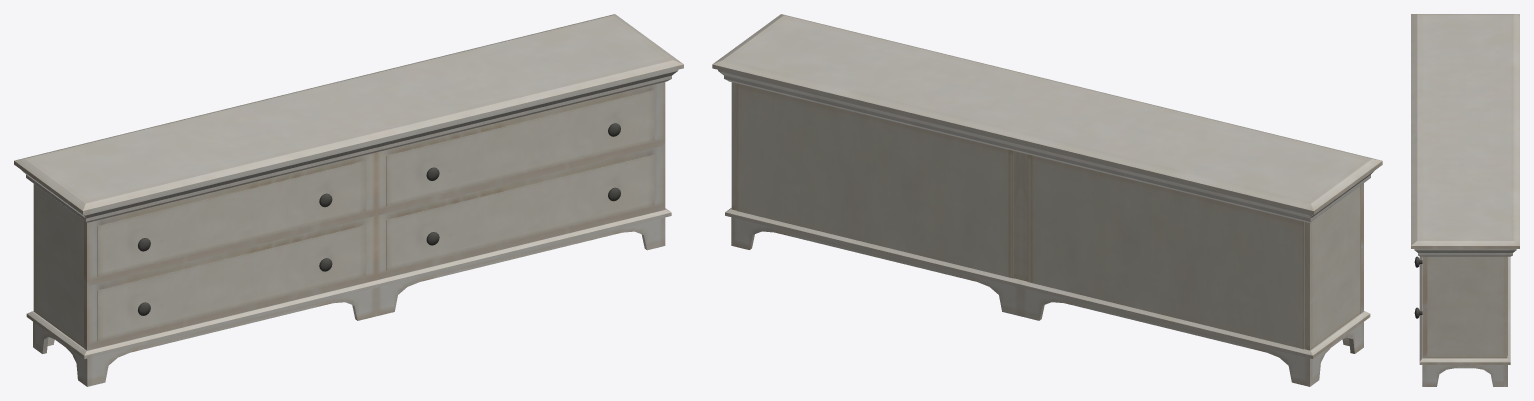
Rendered from TV_Table.FBX.
3 renders of one model, left to right at view 1: azimuth 30°, elevation 25°; view 2: azimuth 150°, elevation 25°; view 3: azimuth 270°, elevation 25°, orthographic. The views are drawn at different scales.
Visible parts, largest first — view 1: TV_Table, Drawer_A, Drawer_C, Drawer_D, Drawer_B; view 2: TV_Table; view 3: TV_Table.
Boxes of the visible parts, left/top/right/bottom form: TV_Table: left=14, top=14, right=683, bottom=386; Drawer_A: left=97, top=161, right=365, bottom=276; Drawer_C: left=386, top=90, right=654, bottom=206; Drawer_D: left=386, top=155, right=654, bottom=270; Drawer_B: left=97, top=225, right=365, bottom=340; TV_Table: left=712, top=14, right=1382, bottom=386; TV_Table: left=1411, top=14, right=1519, bottom=386.
Size of the model in its own units: 202 by 59.97 by 40.03.
